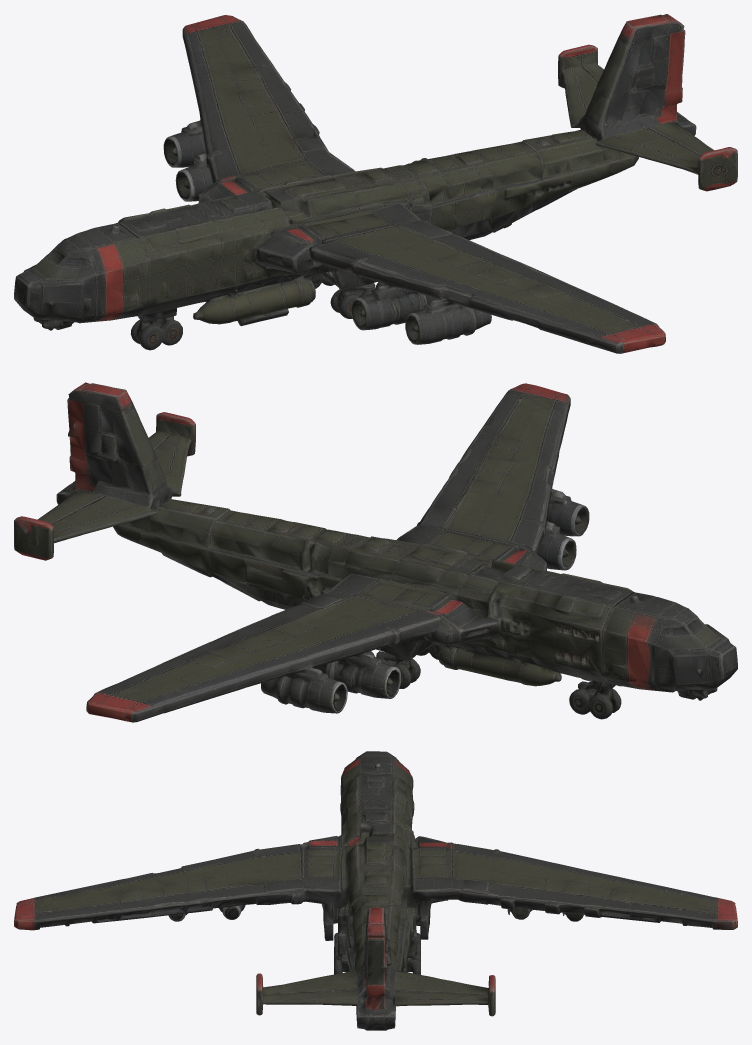
File: molot-heavy-bomber.glb
3 views of the same model, one above another, from view 1: azimuth 30°, elevation 25°; view 2: azimuth 150°, elevation 25°; view 3: azimuth 270°, elevation 25° (orthographic). The views are drawn at different scales.
Parts seen in each view (by area): view 1: Hull; view 2: Hull; view 3: Hull.
Boxes of the visible parts, x1,y1,x2,y2 form: Hull: (14, 14, 737, 353); Hull: (14, 382, 737, 722); Hull: (14, 751, 737, 1030).
Size of the model in its own units: 1.67 by 0.4889 by 1.9.
1 material, 1 textured.
